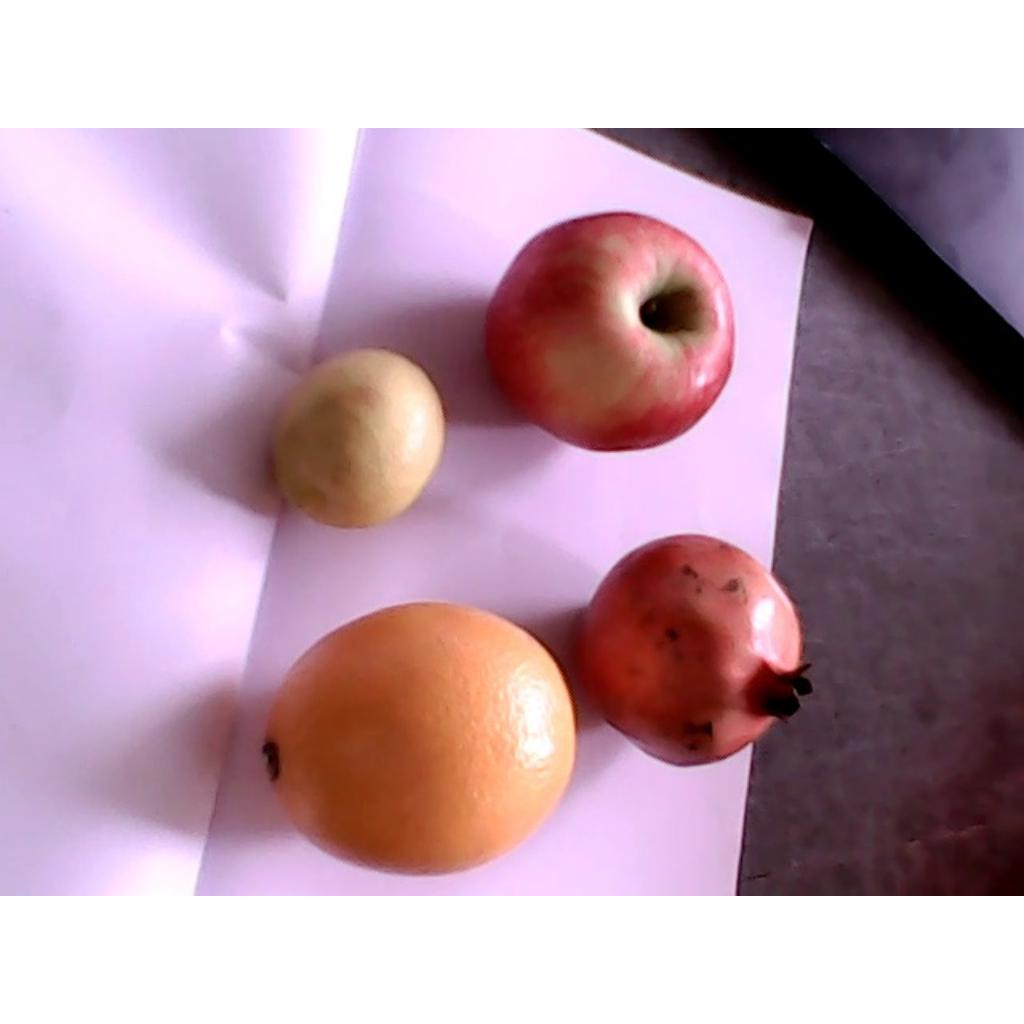apple: (479, 210, 734, 456)
lemon: (270, 347, 444, 526)
orange: (264, 603, 573, 877)
pomegranate: (579, 532, 813, 766)
